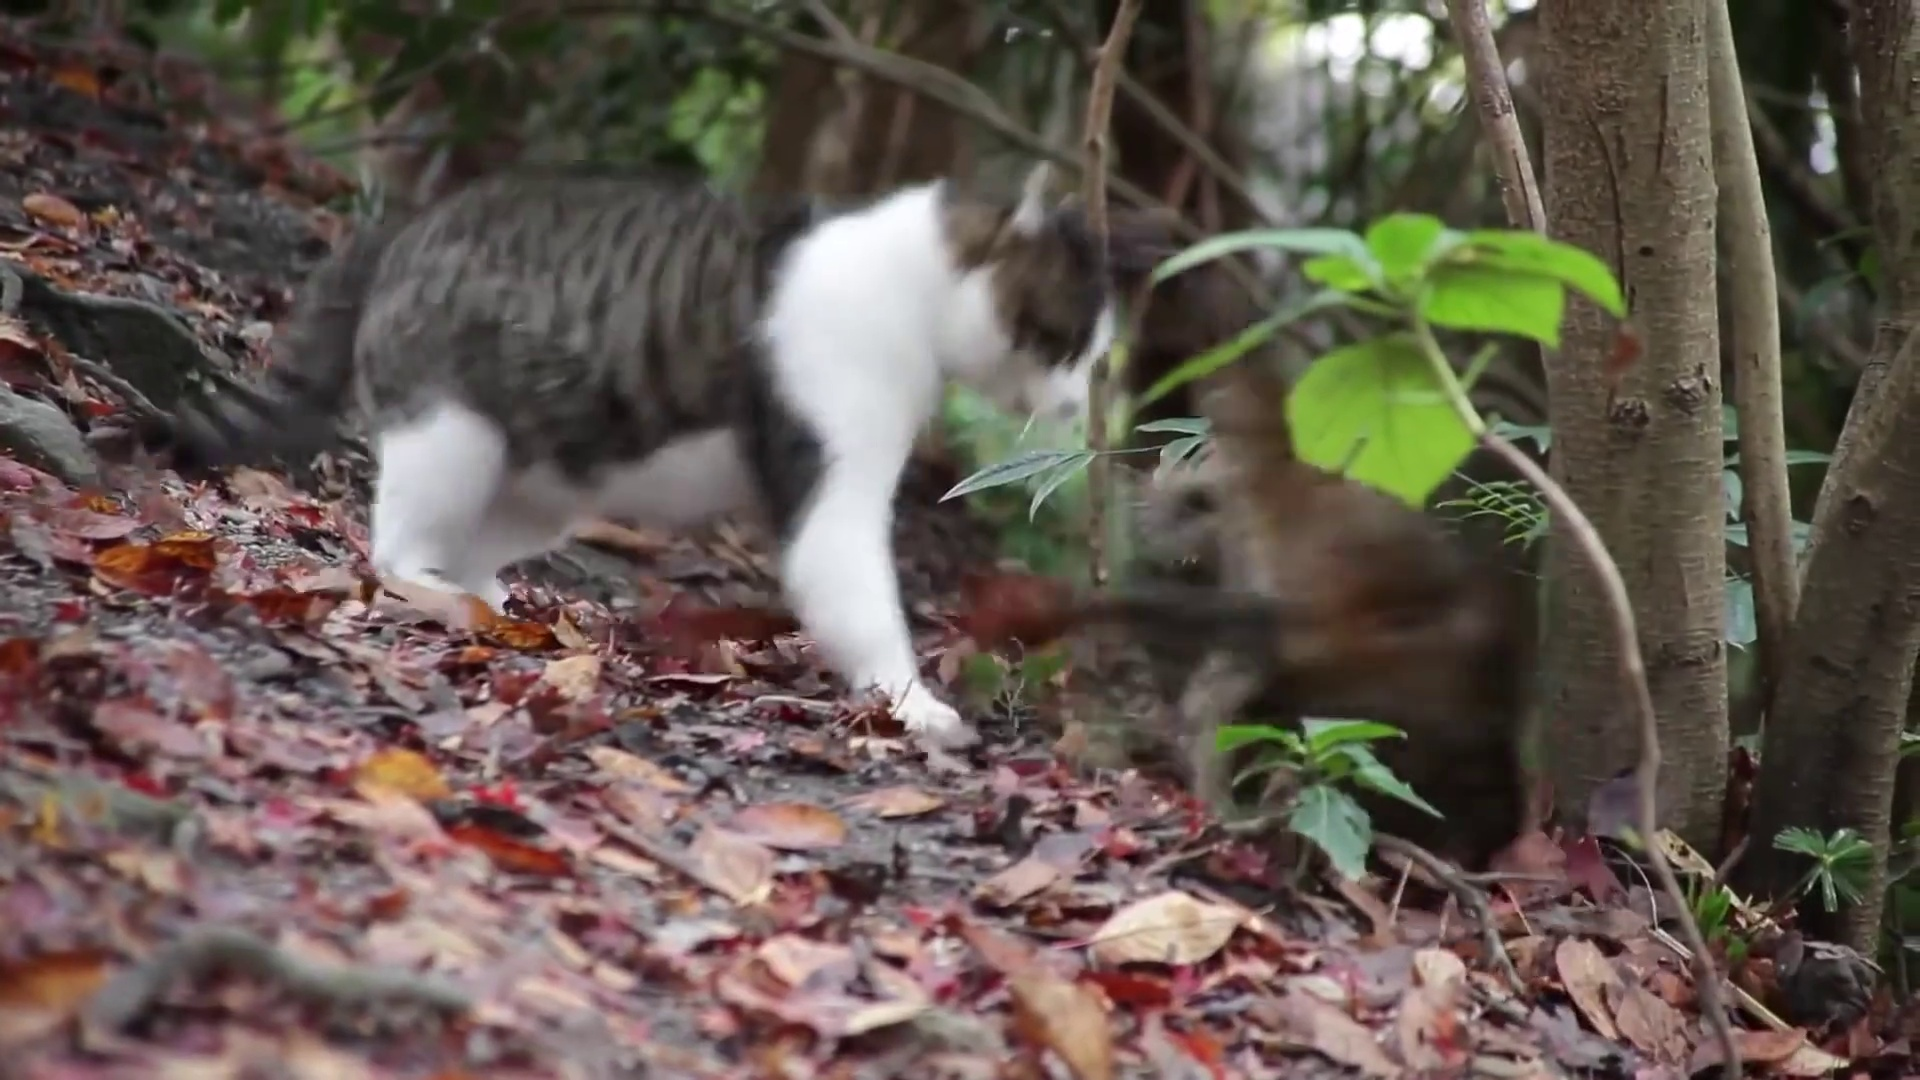black-white: (142, 162, 1116, 727)
pure black: (1201, 351, 1534, 849)
